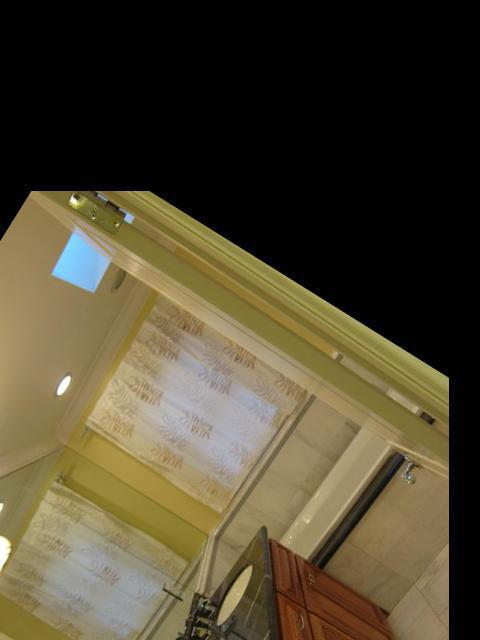Lavamanos: (184, 547, 263, 640)
